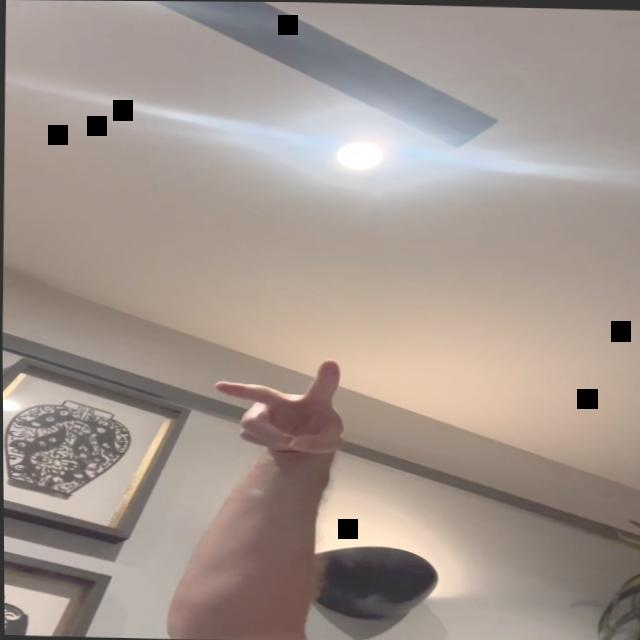Scissors: (210, 352, 349, 460)
